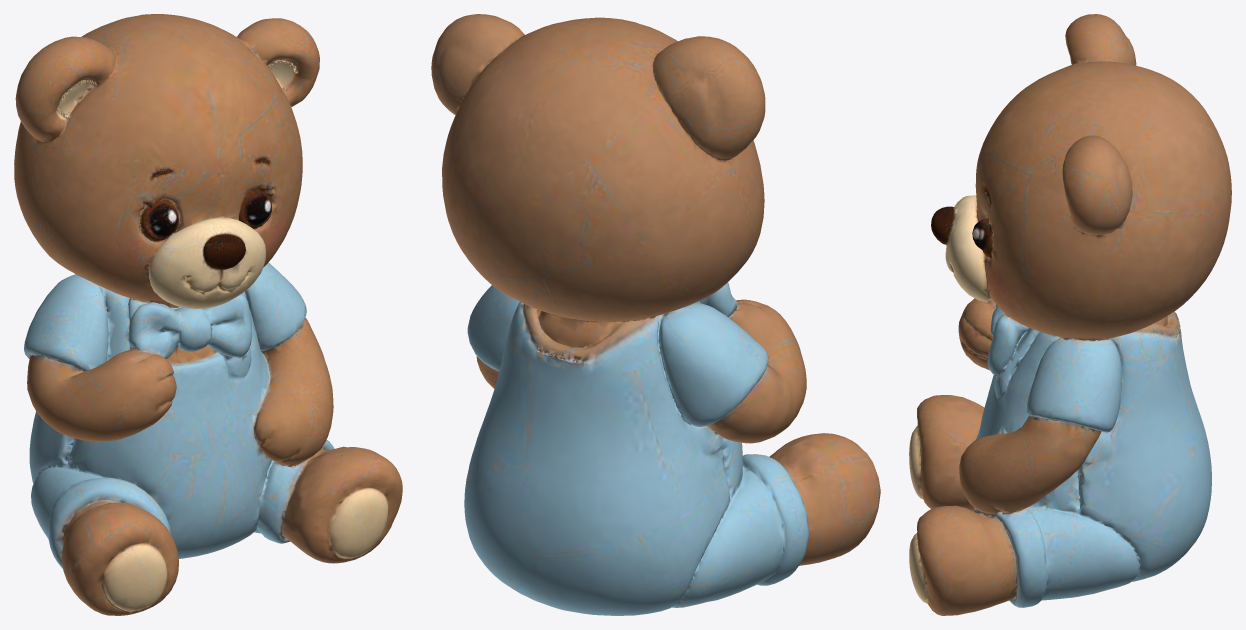
The picture shows the model from 3 angles, left to right: view 1: azimuth 30°, elevation 25°; view 2: azimuth 150°, elevation 25°; view 3: azimuth 270°, elevation 25°; orthographic projection. The views are drawn at different scales.
Bounding box in the file's own units: 1.28 × 1.9 × 1.12.
Materials: 1 (1 with a texture image).
